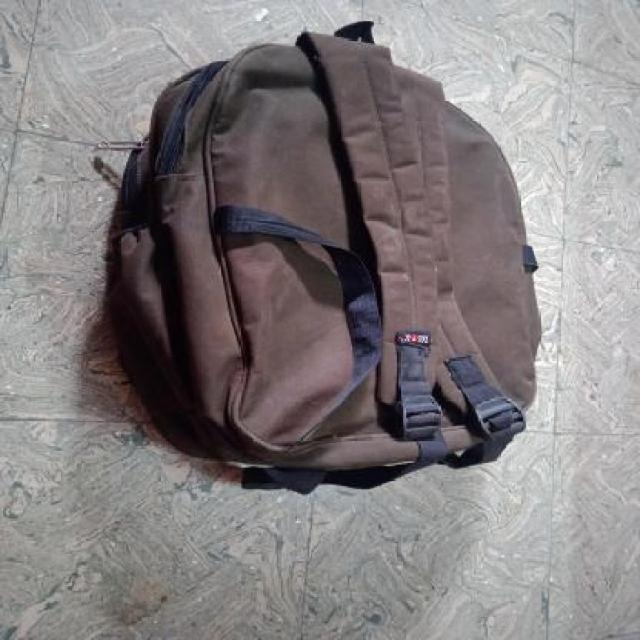backpack: (100, 15, 548, 500)
